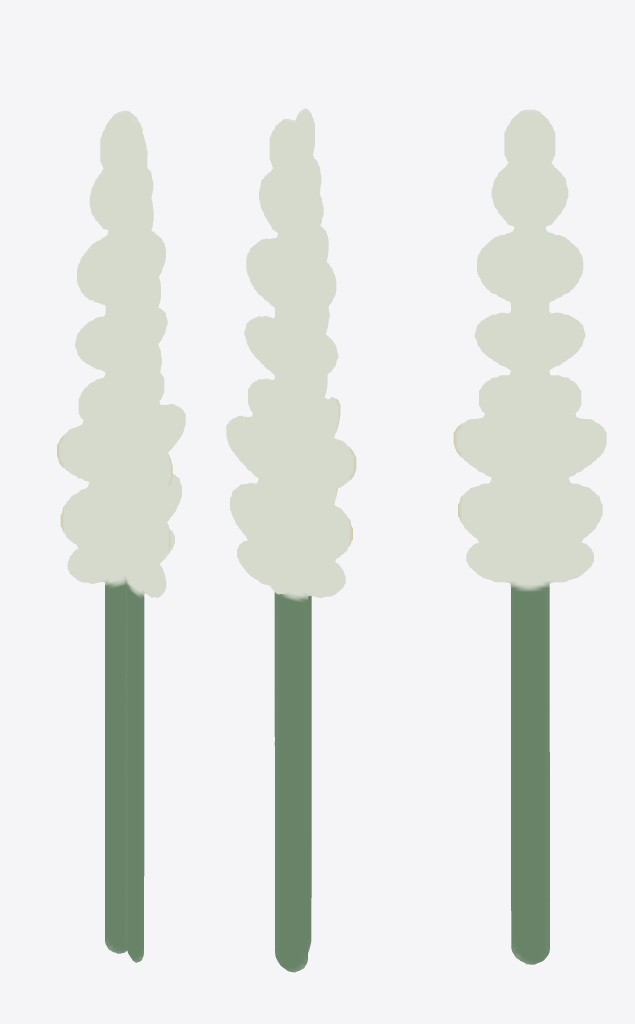
File: lavender_w.fbx
3 views of the same model, side by side, from view 1: azimuth 30°, elevation 25°; view 2: azimuth 150°, elevation 25°; view 3: azimuth 270°, elevation 25° (orthographic).
Parts seen in each view (by area): view 1: polySurface4; view 2: polySurface4; view 3: polySurface4.
Part boxes in pixels (x1=…): polySurface4: x1=57, y1=110, x2=185, y2=962; polySurface4: x1=226, y1=108, x2=356, y2=972; polySurface4: x1=453, y1=109, x2=606, y2=964.
Bounding box in the file's own units: 0.117 × 0.5843 × 0.1085.
